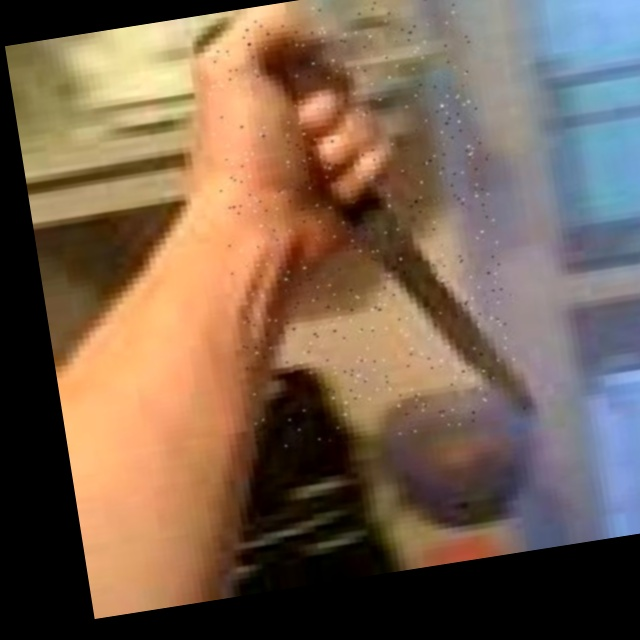Sharp-Object: (191, 0, 531, 457)
